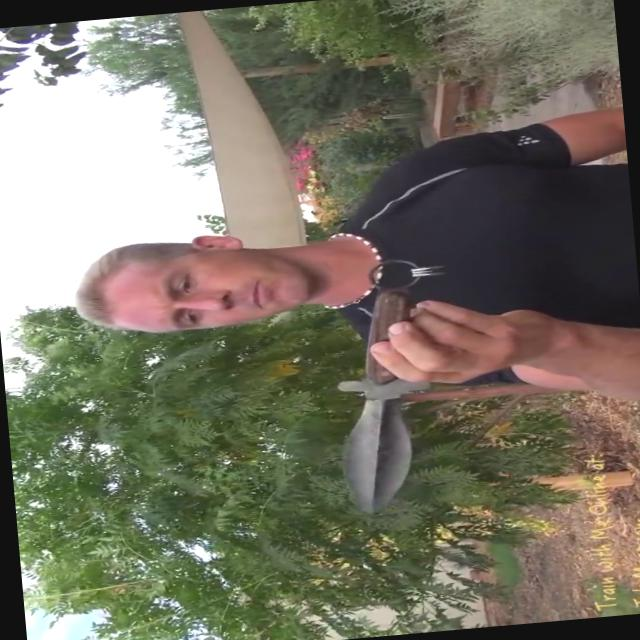knife: (307, 240, 460, 524)
